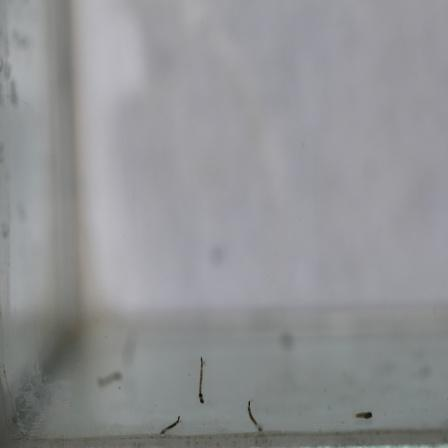Jentik-Nyamuk: (244, 399, 266, 438), (193, 356, 208, 408), (157, 412, 184, 438), (352, 406, 377, 426)
